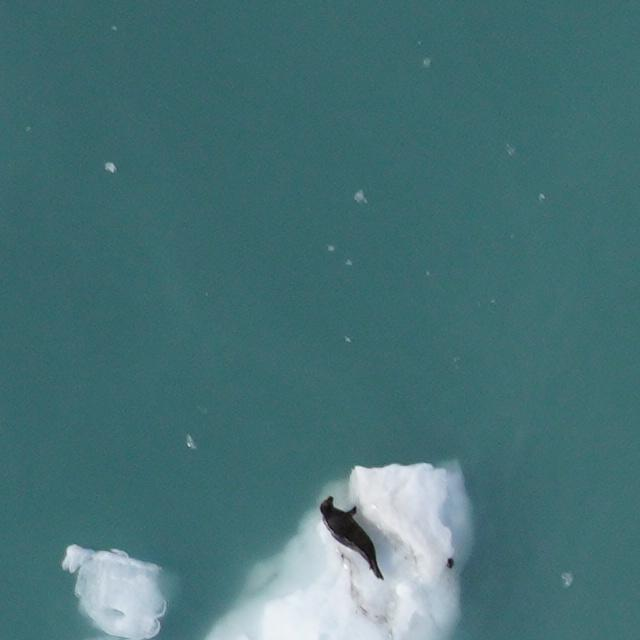seal: (312, 486, 392, 592)
